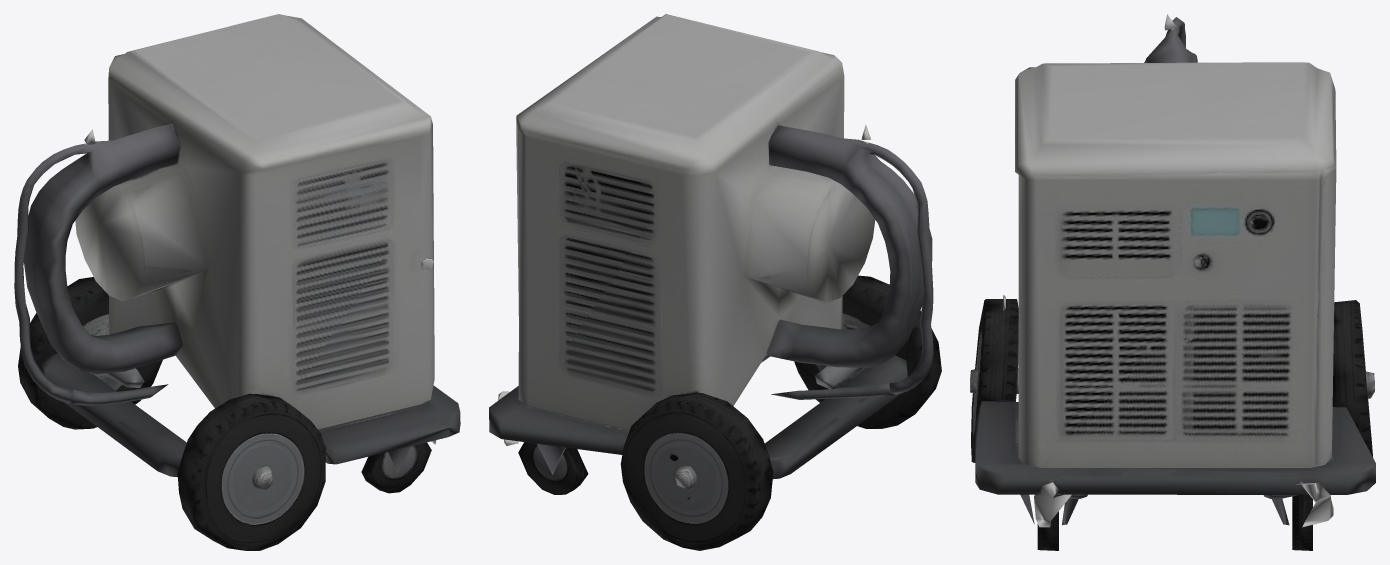
The model's file is gpu-cart.glb.
3 renders of one model, left to right at view 1: azimuth 30°, elevation 25°; view 2: azimuth 150°, elevation 25°; view 3: azimuth 270°, elevation 25°, orthographic. The views are drawn at different scales.
Visible parts, largest first — view 1: tripo_node_b71af964-5ba6-46fa-9d4e-5233462a5109; view 2: tripo_node_b71af964-5ba6-46fa-9d4e-5233462a5109; view 3: tripo_node_b71af964-5ba6-46fa-9d4e-5233462a5109.
Boxes of the visible parts, left/top/right/bottom form: tripo_node_b71af964-5ba6-46fa-9d4e-5233462a5109: left=14, top=14, right=460, bottom=550; tripo_node_b71af964-5ba6-46fa-9d4e-5233462a5109: left=489, top=14, right=941, bottom=550; tripo_node_b71af964-5ba6-46fa-9d4e-5233462a5109: left=970, top=14, right=1375, bottom=550.
Size of the model in its own units: 0.998 by 0.9902 by 0.8809.
1 material, 1 textured.
